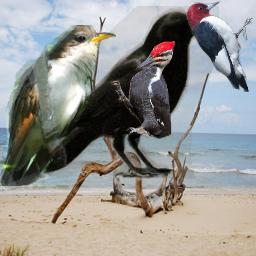Crow: (23, 6, 219, 185)
Cuckoo: (0, 25, 116, 186)
Woodpecker: (186, 1, 256, 92), (111, 41, 175, 139)
